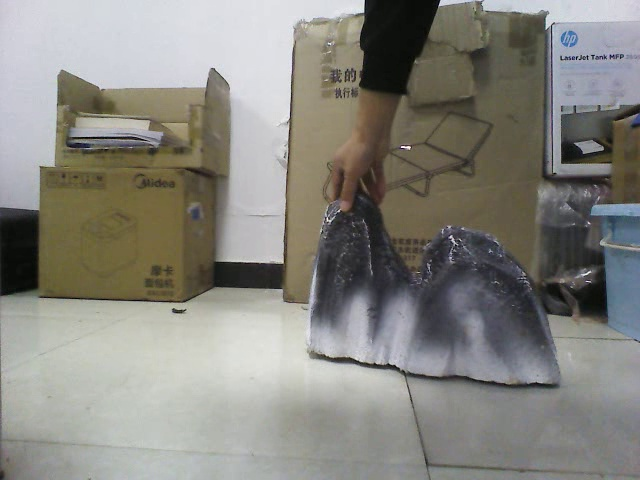rock: (306, 189, 568, 387)
